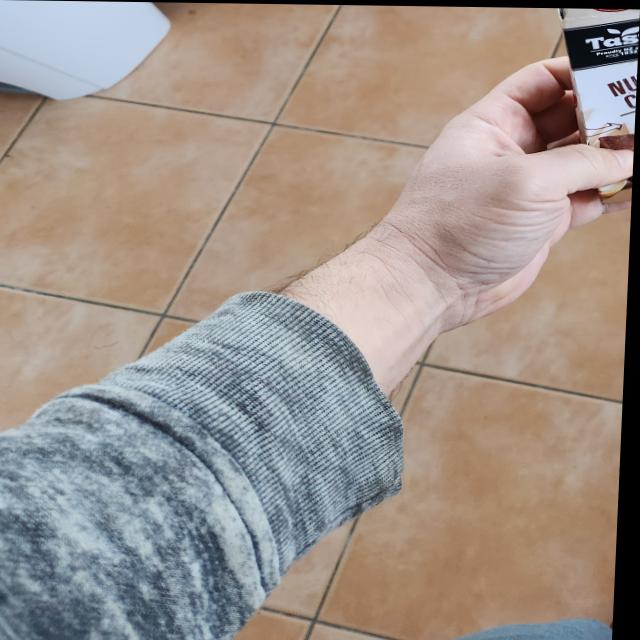muesli bars: (543, 6, 639, 197)
